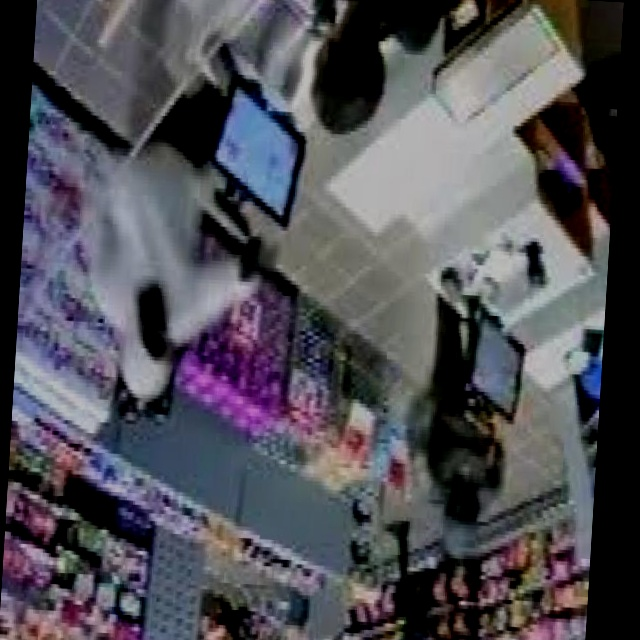gun: (236, 235, 272, 291)
